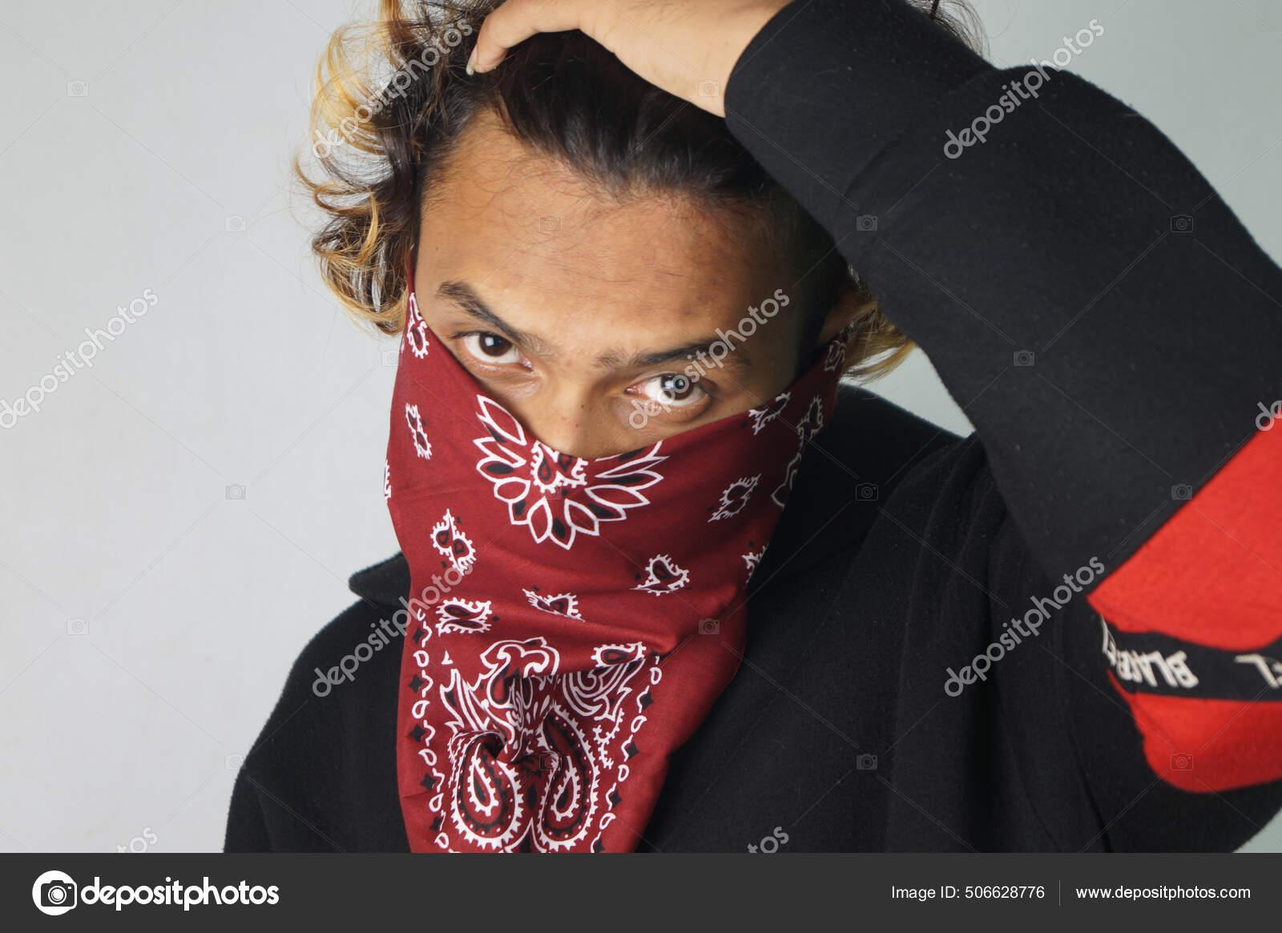scarf-kerchief: (350, 278, 849, 875)
